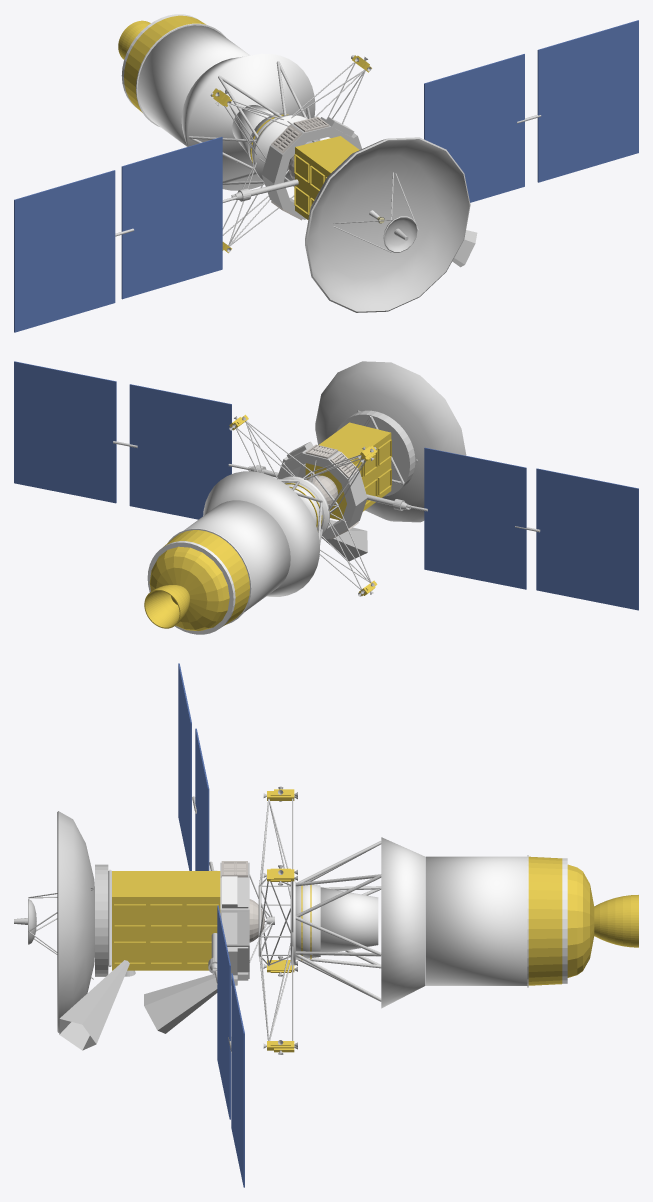
Rendered from SAR.gltf.
The picture shows the model from 3 angles, top to bottom: view 1: azimuth 30°, elevation 25°; view 2: azimuth 150°, elevation 25°; view 3: azimuth 270°, elevation 25°; orthographic projection. The views are drawn at different scales.
Parts seen in each view (by area): view 1: Group045, Sphere008, Sphere007; view 2: Group045, Sphere008; view 3: Group045, Sphere008.
Boxes of the visible parts, left/top/right/bottom form: Group045: left=14, top=14, right=638, bottom=332; Sphere008: left=305, top=137, right=470, bottom=312; Sphere007: left=383, top=216, right=417, bottom=252; Group045: left=14, top=361, right=638, bottom=634; Sphere008: left=315, top=361, right=466, bottom=522; Group045: left=14, top=663, right=638, bottom=1187; Sphere008: left=57, top=811, right=94, bottom=1032.
Bounding box in the file's own units: 2185 × 586 × 1558.
